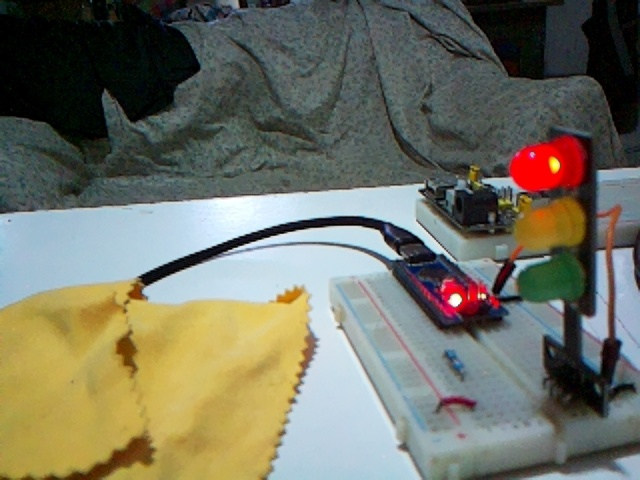traffic_light_red: (502, 128, 596, 367)
